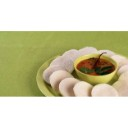idly: (50, 71, 75, 94), (59, 78, 79, 96), (91, 83, 118, 96), (52, 57, 75, 72), (44, 65, 66, 79), (74, 82, 93, 96), (118, 73, 128, 94)
